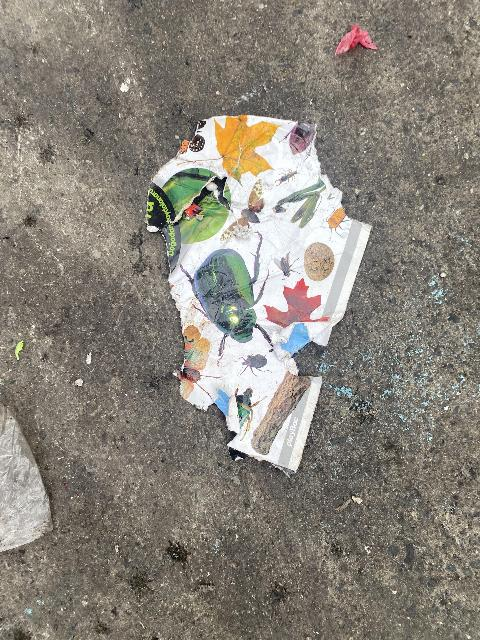Kagit: (138, 114, 379, 475), (0, 381, 52, 570), (327, 24, 390, 62)
Organik: (10, 332, 38, 367)
